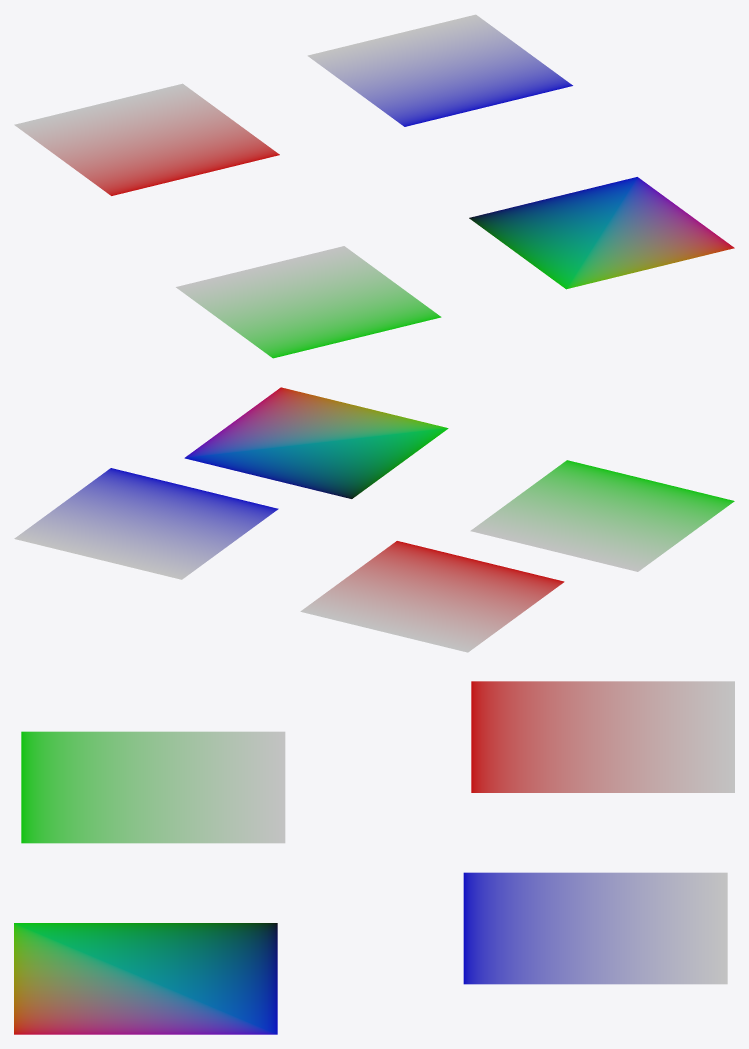
The model's file is quadcolor.fbx.
The picture shows the model from 3 angles, top to bottom: view 1: azimuth 30°, elevation 25°; view 2: azimuth 150°, elevation 25°; view 3: azimuth 270°, elevation 25°; orthographic projection. The views are drawn at different scales.
Parts seen in each view (by area): view 1: pPlane1; view 2: pPlane1; view 3: pPlane1.
Part boxes in pixels (left/top/right/bottom): pPlane1: left=14, top=14, right=734, bottom=358; pPlane1: left=14, top=387, right=734, bottom=652; pPlane1: left=14, top=681, right=734, bottom=1034.
Bounding box in the file's own units: 2.75 × 0.2252 × 2.73.
